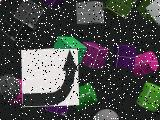Left: (21, 49, 79, 107)
